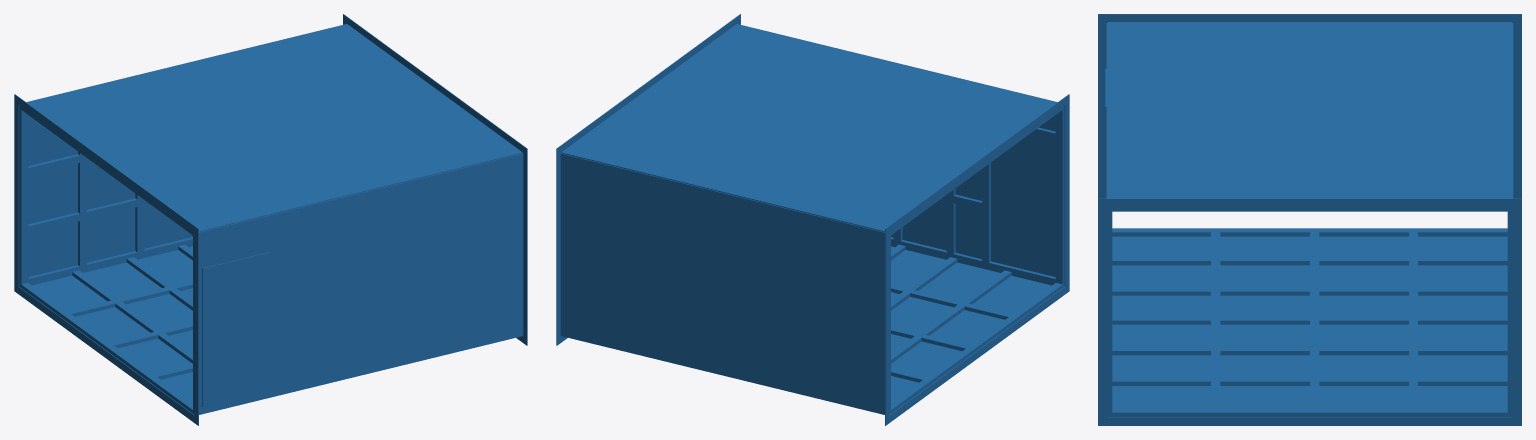
The model's file is Phase05.fbx.
The picture shows the model from 3 angles, left to right: view 1: azimuth 30°, elevation 25°; view 2: azimuth 150°, elevation 25°; view 3: azimuth 270°, elevation 25°; orthographic projection. The views are drawn at different scales.
Visible parts, largest first — view 1: Стальной лист (ГОСТ 19903-74) Балки:Лист 3500х3772:264237, Стальной лист (ГОСТ 19903-74) Балки:Лист 2000:266793, Профили_гнутые_замкнутые_сварные_прямоугольные_ГОСТ 30245-20 (×12), Стальной лист (ГОСТ 19903-74) Балки:Лист 2000:264677, Стальной лист (ГОСТ 19903-74) Балки:Лист 3500х3772:264405, Стальной лист (ГОСТ 19903-74) Балки:Лист 770:265211, Стальной лист (ГОСТ 19903-74) Балки:Лист 83:267958, Стальной лист (ГОСТ 19903-74) Балки:Лист 83:267960, Стальной лист (ГОСТ 19903-74) Балки:Лист 83:267515, Стальной лист (ГОСТ 19903-74) Балки:Лист 83:267964, Стальной лист (ГОСТ 19903-74) Балки:Лист 83:267692, Стальной лист (ГОСТ 19903-74) Балки:Лист 83:267962; view 2: Стальной лист (ГОСТ 19903-74) Балки:Лист 2000:264677, Стальной лист (ГОСТ 19903-74) Балки:Лист 3500х3772:264237, Стальной лист (ГОСТ 19903-74) Балки:Лист 2000:266793, Профили_гнутые_замкнутые_сварные_прямоугольные_ГОСТ 30245-20 (×10), Стальной лист (ГОСТ 19903-74) Балки:Лист 3500х3772:264405, Стальной лист (ГОСТ 19903-74) Балки:Лист 83:267958, Стальной лист (ГОСТ 19903-74) Балки:Лист 83:267960, Стальной лист (ГОСТ 19903-74) Балки:Лист 83:267515, Стальной лист (ГОСТ 19903-74) Балки:Лист 83:267962, Стальной лист (ГОСТ 19903-74) Балки:Лист 83:267818, Стальной лист (ГОСТ 19903-74) Балки:Лист 83:267964; view 3: Стальной лист (ГОСТ 19903-74) Балки:Лист 3500х3772:264237, Стальной лист (ГОСТ 19903-74) Балки:Лист 3500х3772:264405, Профили_гнутые_замкнутые_сварные_прямоугольные_ГОСТ 30245-20 (×13), Стальной лист (ГОСТ 19903-74) Балки:Лист 83:267515, Стальной лист (ГОСТ 19903-74) Балки:Лист 83:267643, Стальной лист (ГОСТ 19903-74) Балки:Лист 83:267958, Стальной лист (ГОСТ 19903-74) Балки:Лист 83:267692, Стальной лист (ГОСТ 19903-74) Балки:Лист 83:267818, Стальной лист (ГОСТ 19903-74) Балки:Лист 83:267964, Стальной лист (ГОСТ 19903-74) Балки:Лист 83:267962.
Boxes of the visible parts, x1,y1,x2,y2 form: Стальной лист (ГОСТ 19903-74) Балки:Лист 3500х3772:264237: (26, 24, 522, 232); Стальной лист (ГОСТ 19903-74) Балки:Лист 2000:266793: (199, 153, 523, 414); Профили_гнутые_замкнутые_сварные_прямоугольные_ГОСТ 30245-20 (×12): (19, 106, 194, 413); Стальной лист (ГОСТ 19903-74) Балки:Лист 2000:264677: (28, 115, 192, 276); Стальной лист (ГОСТ 19903-74) Балки:Лист 3500х3772:264405: (32, 246, 522, 414); Стальной лист (ГОСТ 19903-74) Балки:Лист 770:265211: (202, 252, 269, 406); Стальной лист (ГОСТ 19903-74) Балки:Лист 83:267958: (14, 94, 194, 232); Стальной лист (ГОСТ 19903-74) Балки:Лист 83:267960: (18, 287, 194, 422); Стальной лист (ГОСТ 19903-74) Балки:Лист 83:267515: (343, 14, 522, 151); Стальной лист (ГОСТ 19903-74) Балки:Лист 83:267964: (14, 95, 19, 293); Стальной лист (ГОСТ 19903-74) Балки:Лист 83:267692: (522, 145, 527, 345); Стальной лист (ГОСТ 19903-74) Балки:Лист 83:267962: (194, 226, 198, 425); Стальной лист (ГОСТ 19903-74) Балки:Лист 2000:264677: (560, 153, 884, 414); Стальной лист (ГОСТ 19903-74) Балки:Лист 3500х3772:264237: (561, 24, 1057, 232); Стальной лист (ГОСТ 19903-74) Балки:Лист 2000:266793: (891, 115, 1055, 276); Профили_гнутые_замкнутые_сварные_прямоугольные_ГОСТ 30245-20 (×10): (889, 106, 1064, 413); Стальной лист (ГОСТ 19903-74) Балки:Лист 3500х3772:264405: (561, 246, 1051, 414); Стальной лист (ГОСТ 19903-74) Балки:Лист 83:267958: (885, 97, 1065, 232); Стальной лист (ГОСТ 19903-74) Балки:Лист 83:267960: (889, 287, 1065, 422); Стальной лист (ГОСТ 19903-74) Балки:Лист 83:267515: (557, 17, 736, 152); Стальной лист (ГОСТ 19903-74) Балки:Лист 83:267962: (1064, 94, 1069, 293); Стальной лист (ГОСТ 19903-74) Балки:Лист 83:267818: (556, 148, 561, 345); Стальной лист (ГОСТ 19903-74) Балки:Лист 83:267964: (885, 229, 889, 425); Стальной лист (ГОСТ 19903-74) Балки:Лист 3500х3772:264237: (1107, 22, 1512, 198); Стальной лист (ГОСТ 19903-74) Балки:Лист 3500х3772:264405: (1112, 236, 1507, 408); Профили_гнутые_замкнутые_сварные_прямоугольные_ГОСТ 30245-20 (×13): (1107, 207, 1512, 416); Стальной лист (ГОСТ 19903-74) Балки:Лист 83:267515: (1107, 198, 1521, 207); Стальной лист (ГОСТ 19903-74) Балки:Лист 83:267643: (1107, 417, 1512, 425); Стальной лист (ГОСТ 19903-74) Балки:Лист 83:267958: (1107, 14, 1521, 22); Стальной лист (ГОСТ 19903-74) Балки:Лист 83:267692: (1098, 198, 1107, 425); Стальной лист (ГОСТ 19903-74) Балки:Лист 83:267818: (1512, 199, 1521, 425); Стальной лист (ГОСТ 19903-74) Балки:Лист 83:267964: (1513, 14, 1521, 198); Стальной лист (ГОСТ 19903-74) Балки:Лист 83:267962: (1098, 14, 1107, 198).
Bounding box in the file's own units: 3788 × 3666 × 2166.
